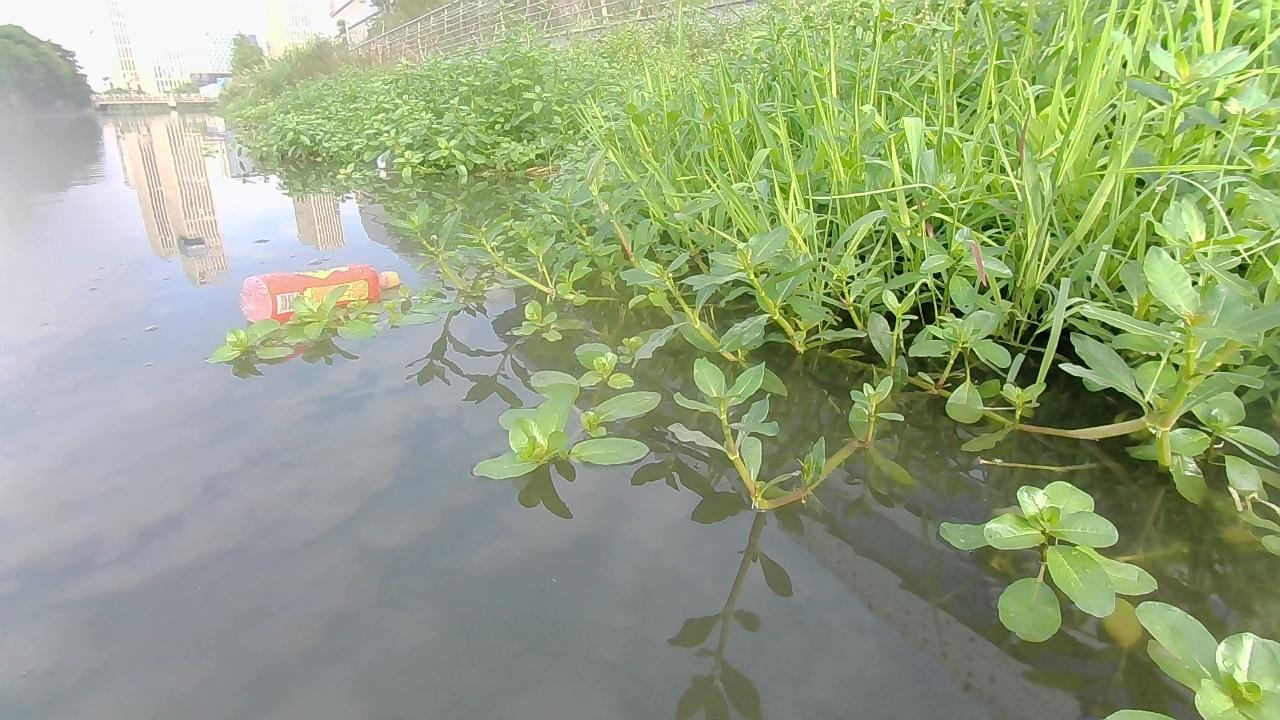bottle: (240, 262, 401, 322), (376, 157, 386, 171)
